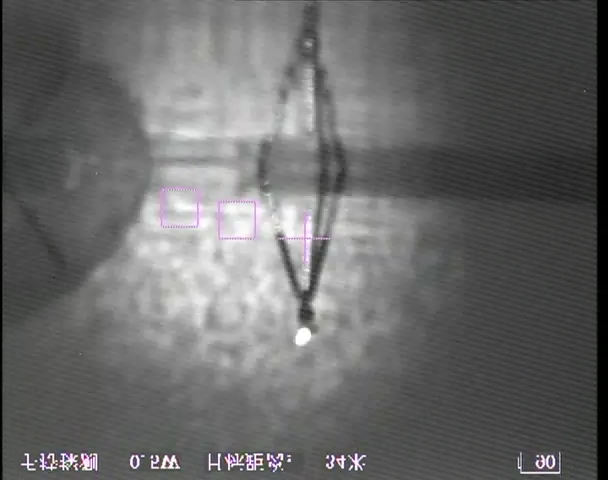my: (293, 326, 314, 347)
